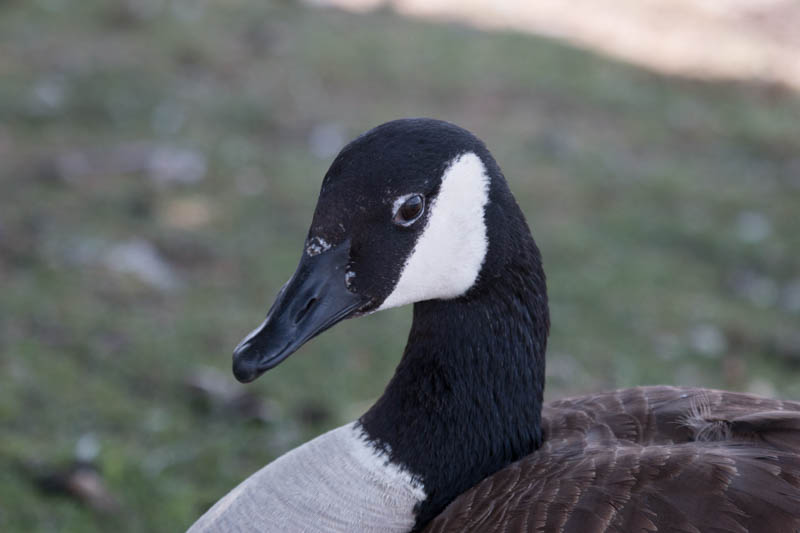goose-head: (233, 117, 529, 382)
